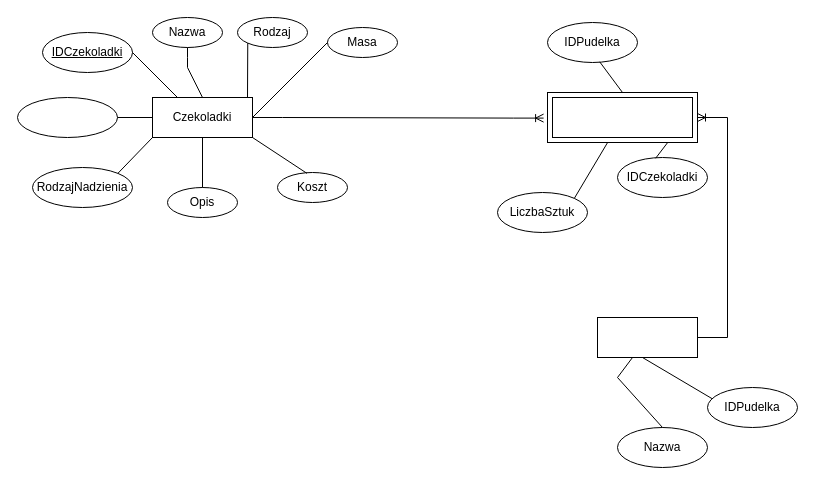
The diagram is 825 pixels wide and 485 high, and some of its shapes have lost their labels. Here are the shapes that lost their labels. From the top down, the centre of each, then its label:
At [67,117]: "RodzajOrzecha".
At [622,117]: "Zawartosc".
At [647,337]: "Pudelka".
